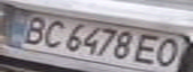4: (78, 25, 103, 56)
6: (60, 20, 87, 53)
7: (96, 26, 121, 59)
8: (112, 28, 139, 61)
B: (12, 14, 54, 44)
C: (33, 17, 69, 48)
E: (130, 33, 166, 65)
O: (148, 36, 190, 69)
